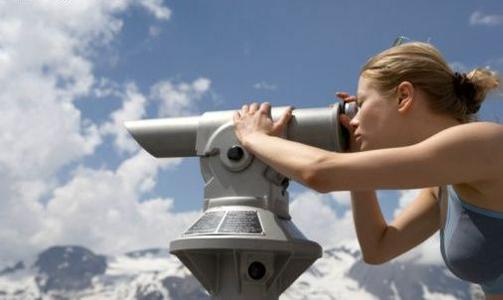person: (232, 43, 501, 300)
